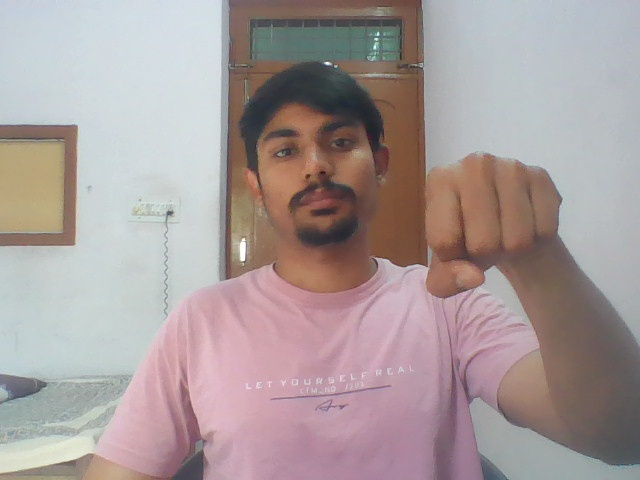Yes: (420, 145, 566, 298)
